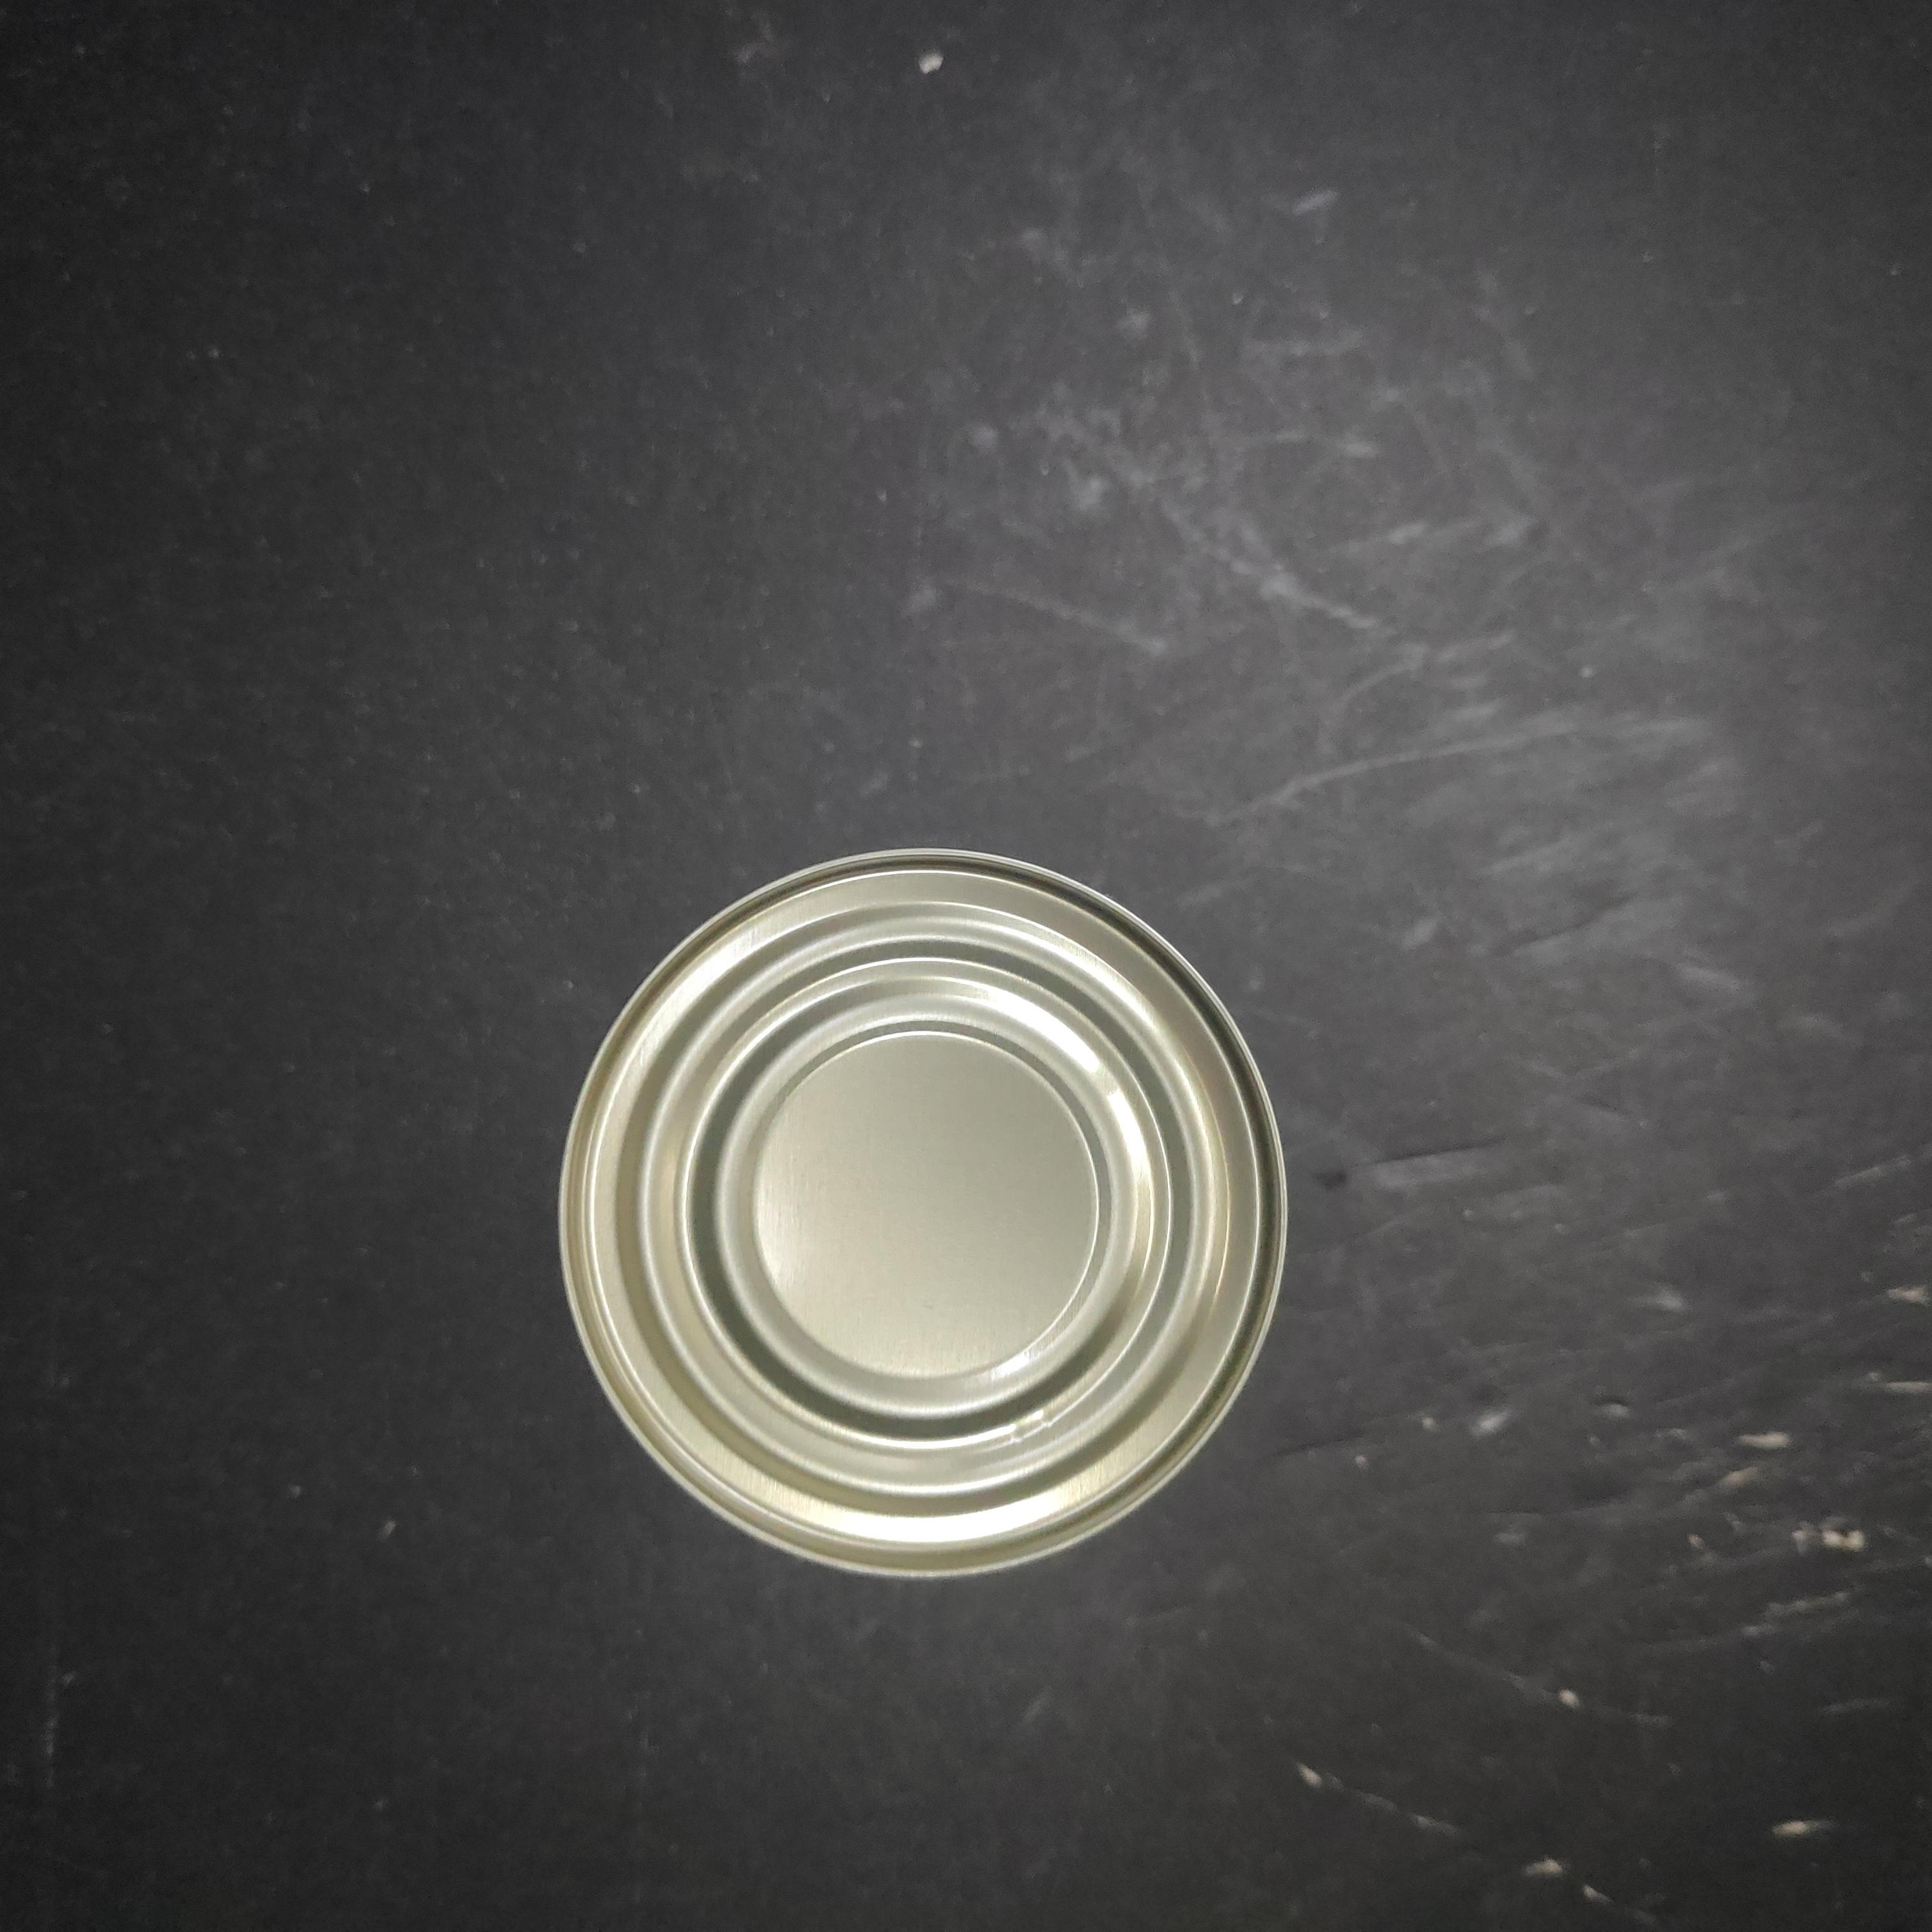No defect: (352, 556, 1089, 1291)
